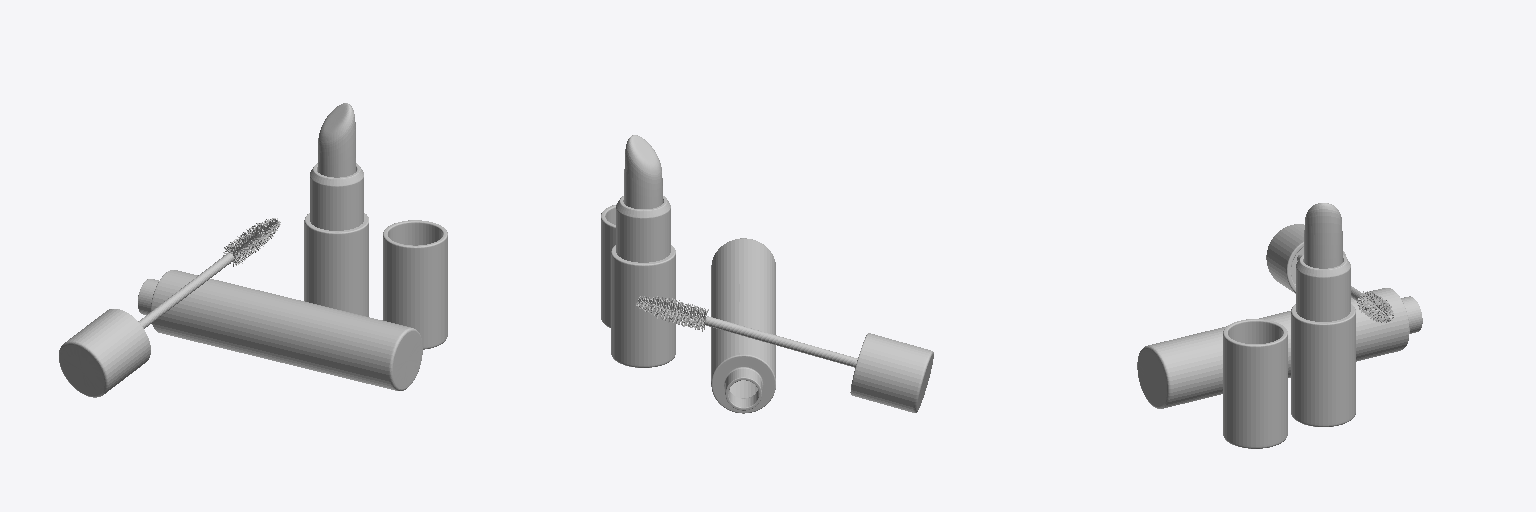
3 renders of one model, left to right at view 1: azimuth 30°, elevation 25°; view 2: azimuth 150°, elevation 25°; view 3: azimuth 270°, elevation 25°, orthographic.
Parts seen in each view (by area): view 1: archmodels101_072_001, archmodels101_072_002, archmodels101_072_003; view 2: archmodels101_072_001, archmodels101_072_002, archmodels101_072_003; view 3: archmodels101_072_001, archmodels101_072_002, archmodels101_072_003.
Part boxes in pixels (bbox=[...]): archmodels101_072_001: bbox=[59, 213, 447, 397]; archmodels101_072_002: bbox=[310, 163, 363, 230]; archmodels101_072_003: bbox=[318, 103, 355, 177]; archmodels101_072_001: bbox=[601, 204, 933, 413]; archmodels101_072_002: bbox=[616, 196, 670, 262]; archmodels101_072_003: bbox=[624, 135, 662, 208]; archmodels101_072_001: bbox=[1137, 224, 1422, 448]; archmodels101_072_002: bbox=[1296, 255, 1350, 321]; archmodels101_072_003: bbox=[1304, 203, 1342, 268].
Bounding box in the file's own units: 4.86 × 2.87 × 3.43.